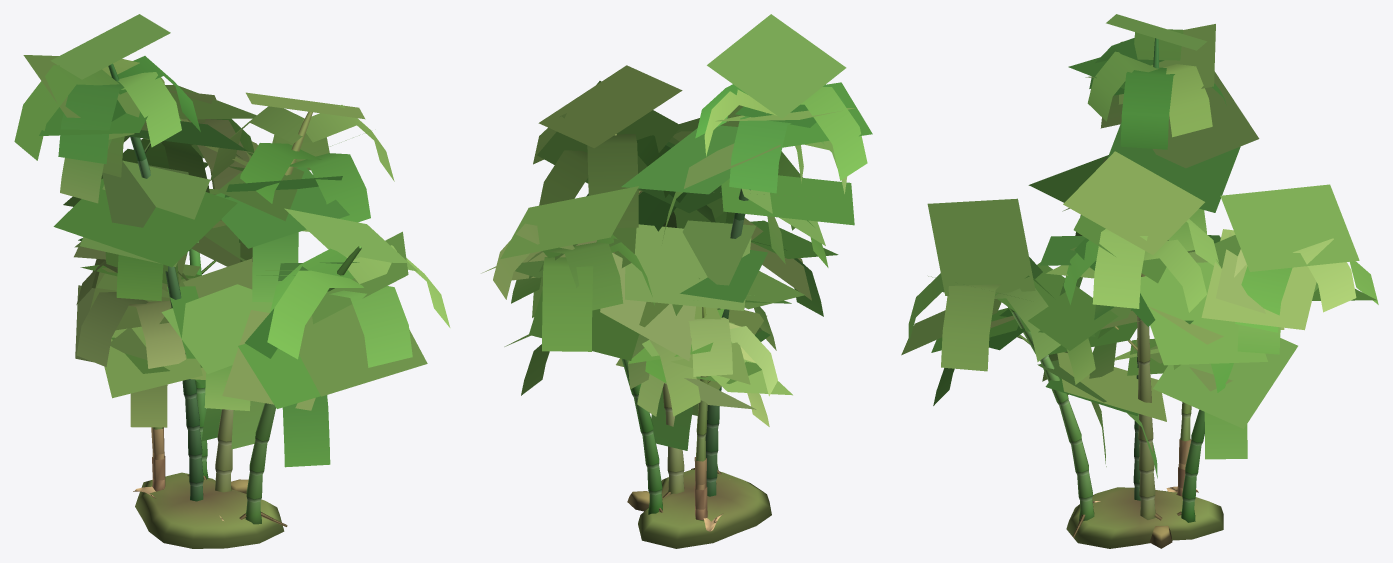
File: tree-stand-clump-v1.glb
The picture shows the model from 3 angles, left to right: view 1: azimuth 30°, elevation 25°; view 2: azimuth 150°, elevation 25°; view 3: azimuth 270°, elevation 25°; orthographic projection. The views are drawn at different scales.
Parts seen in each view (by area): view 1: culmLeaf, culm; view 2: culmLeaf, culm; view 3: culmLeaf, culm.
Boxes of the visible parts, box(x1,y1,x2,y2) form: culmLeaf: box(14, 14, 450, 467); culm: box(108, 63, 361, 548); culmLeaf: box(481, 14, 872, 450); culm: box(615, 134, 771, 548); culmLeaf: box(901, 14, 1378, 478); culm: box(1007, 38, 1223, 548).
Bounding box in the file's own units: 4.35 × 6.16 × 5.61.
